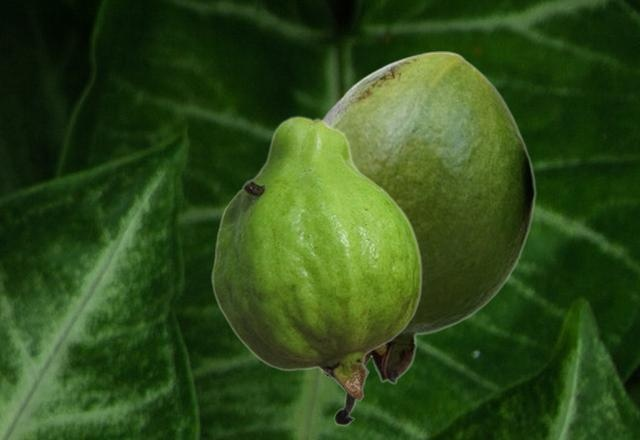guava: (318, 51, 535, 383), (210, 115, 421, 425)
